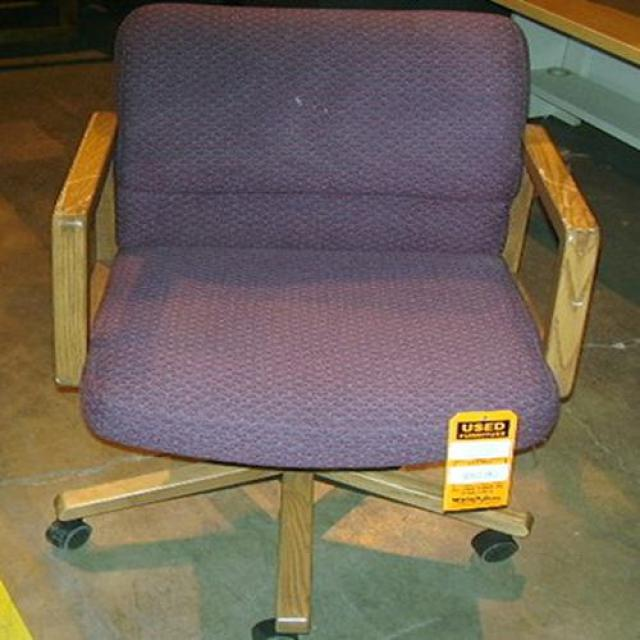swivelchair: (52, 3, 603, 640)
